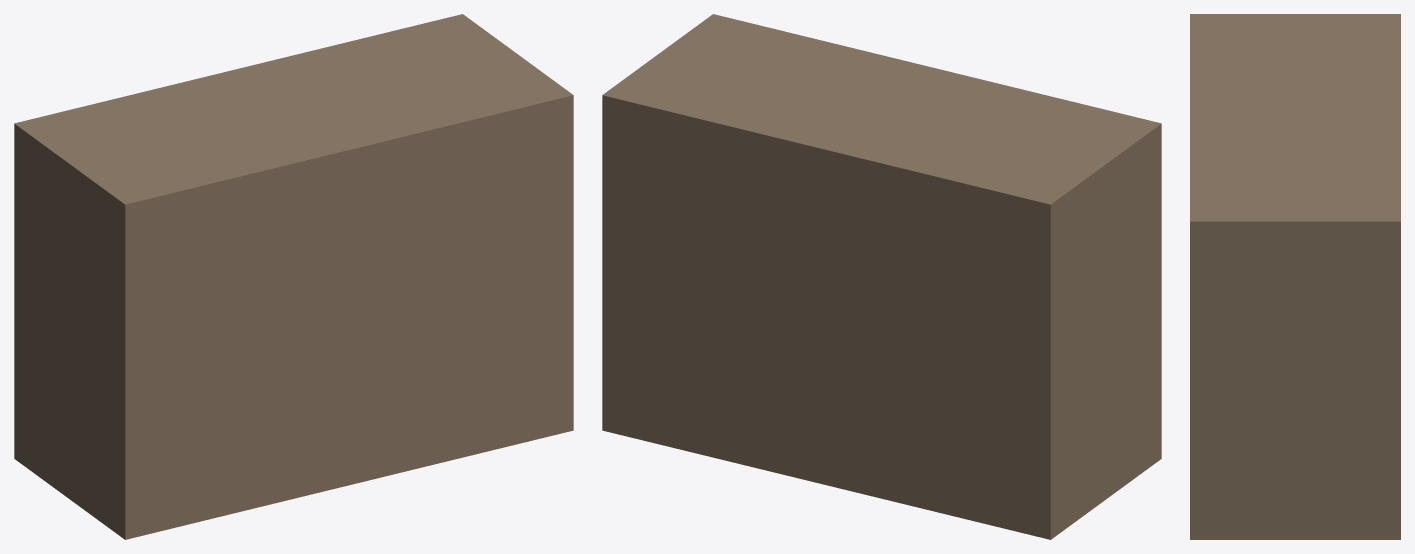
The model's file is mesilla.glb.
The picture shows the model from 3 angles, left to right: view 1: azimuth 30°, elevation 25°; view 2: azimuth 150°, elevation 25°; view 3: azimuth 270°, elevation 25°; orthographic projection. The views are drawn at different scales.
Visible parts, largest first — view 1: Mesilla; view 2: Mesilla; view 3: Mesilla.
Part boxes in pixels (left/top/right/bottom): Mesilla: left=14, top=14, right=573, bottom=539; Mesilla: left=602, top=14, right=1161, bottom=539; Mesilla: left=1190, top=14, right=1400, bottom=539.
Bounding box in the file's own units: 0.7 × 0.5 × 0.3.
